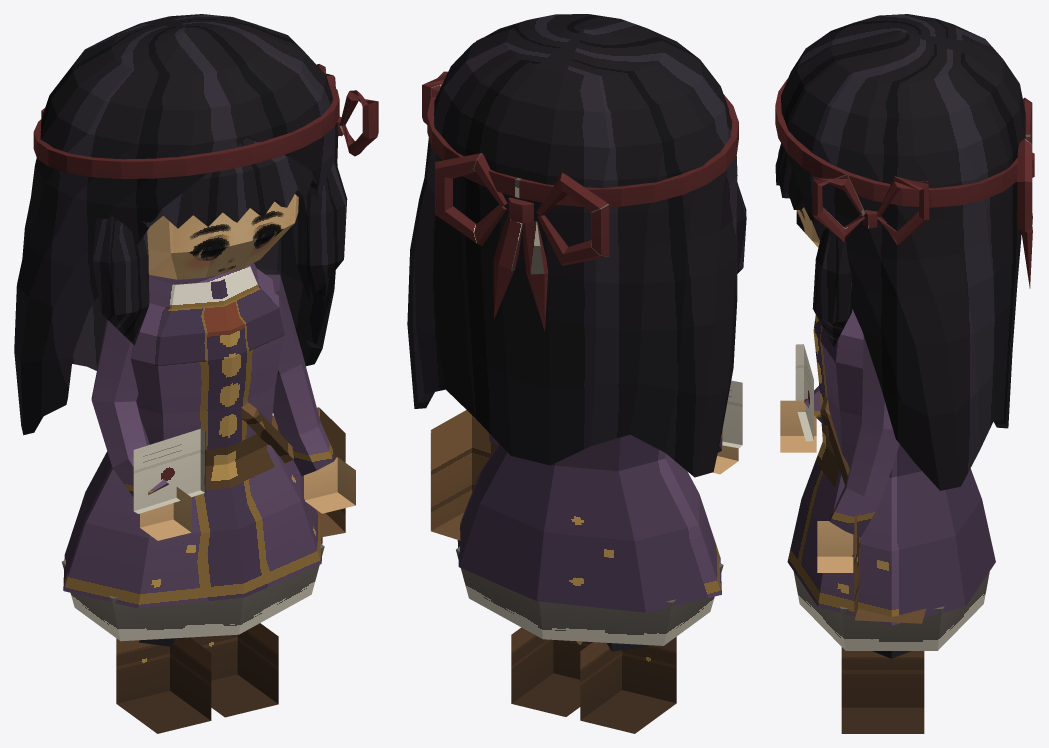
Rendered from postmaster-v07.glb.
3 views of the same model, side by side, from view 1: azimuth 30°, elevation 25°; view 2: azimuth 150°, elevation 25°; view 3: azimuth 270°, elevation 25° (orthographic).
Visible parts, largest first — view 1: postmaster; view 2: postmaster; view 3: postmaster.
Part boxes in pixels (left/top/right/bottom): postmaster: left=14, top=14, right=378, bottom=733; postmaster: left=407, top=14, right=746, bottom=733; postmaster: left=775, top=14, right=1034, bottom=733.
Size of the model in its own units: 1.24 by 2.56 by 0.8964.
Materials: 2 (2 with a texture image).
